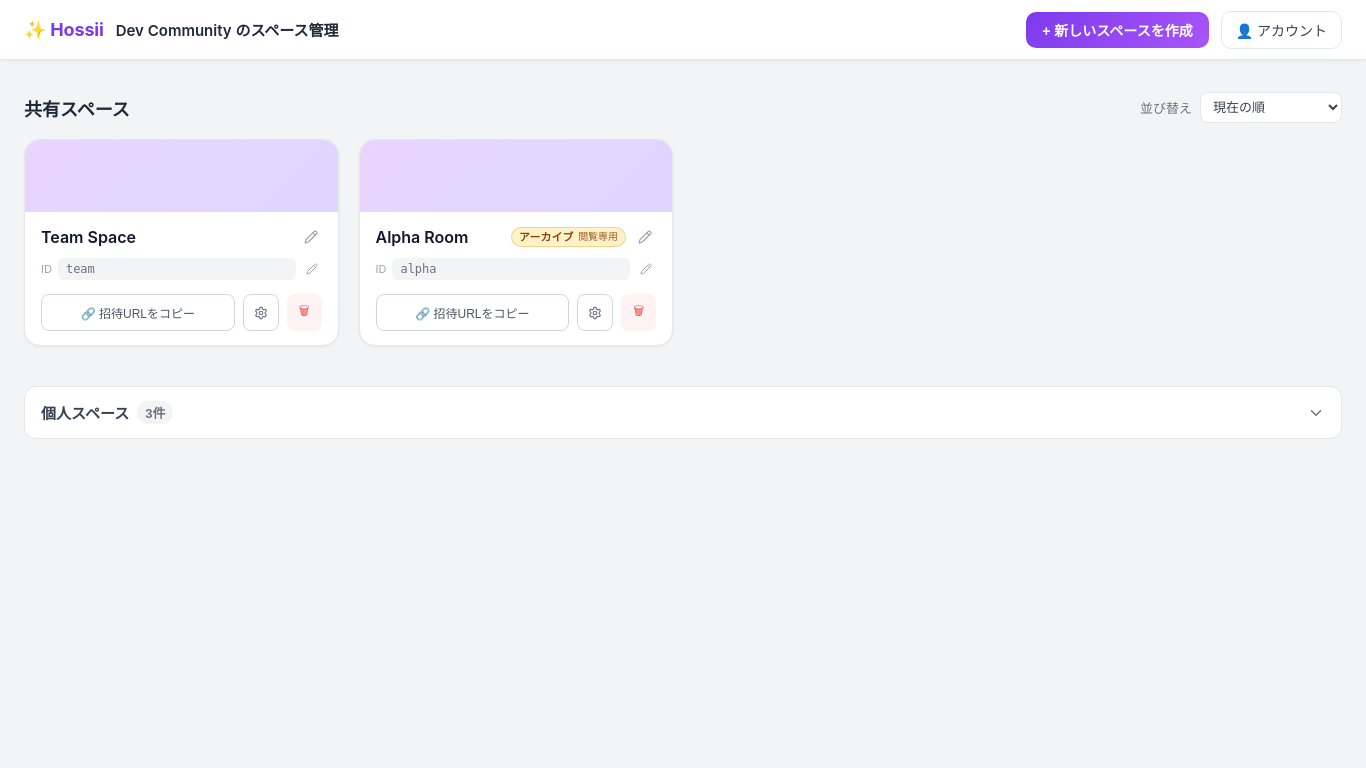
Scenario: SpacesScreen admin search and sort › email で検索できる
Click the button "個人スペース 3件" at (85, 414), box [24,386,1342,439]
(page scrolled)
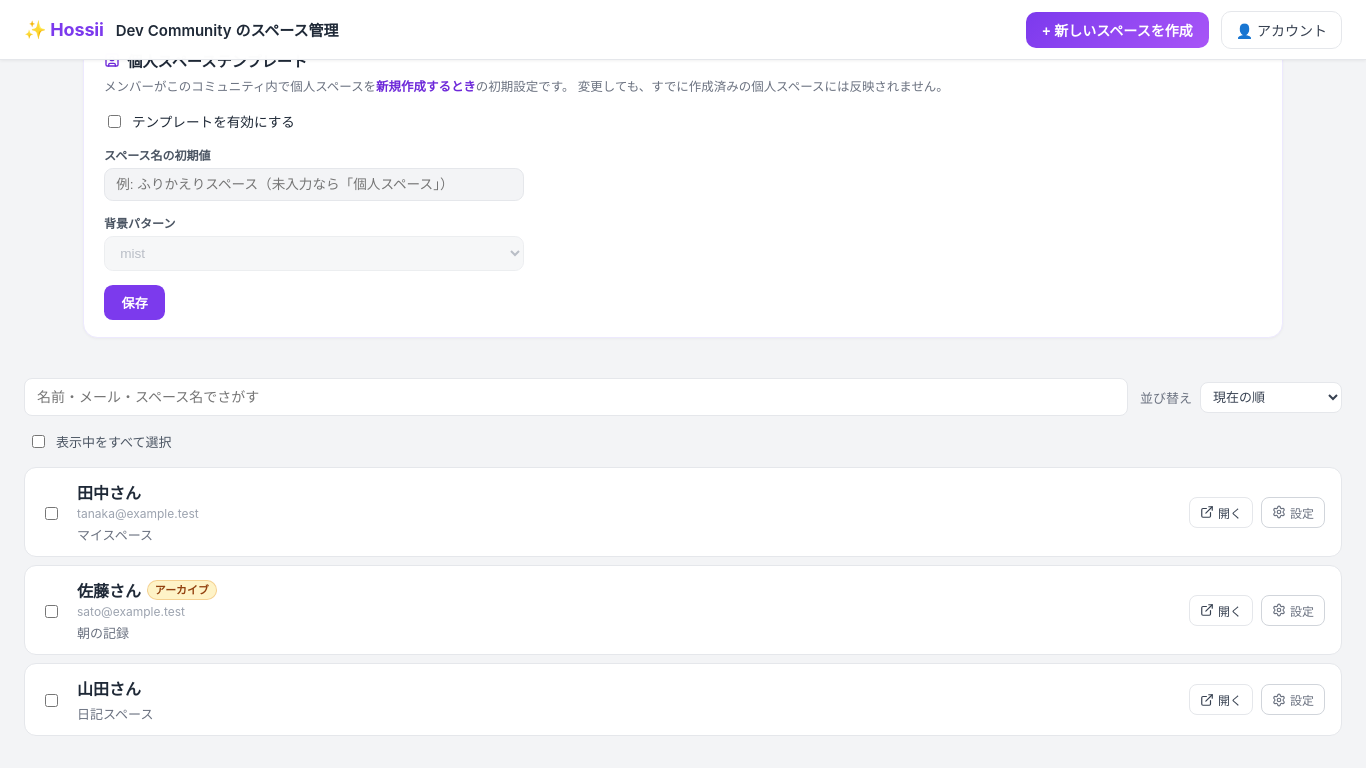
Expected: the search field named "個人スペースを検索" is shown
Type "sato@example" into the search field named "個人スペースを検索" at (576, 397), box [24,378,1128,416]
(page scrolled)
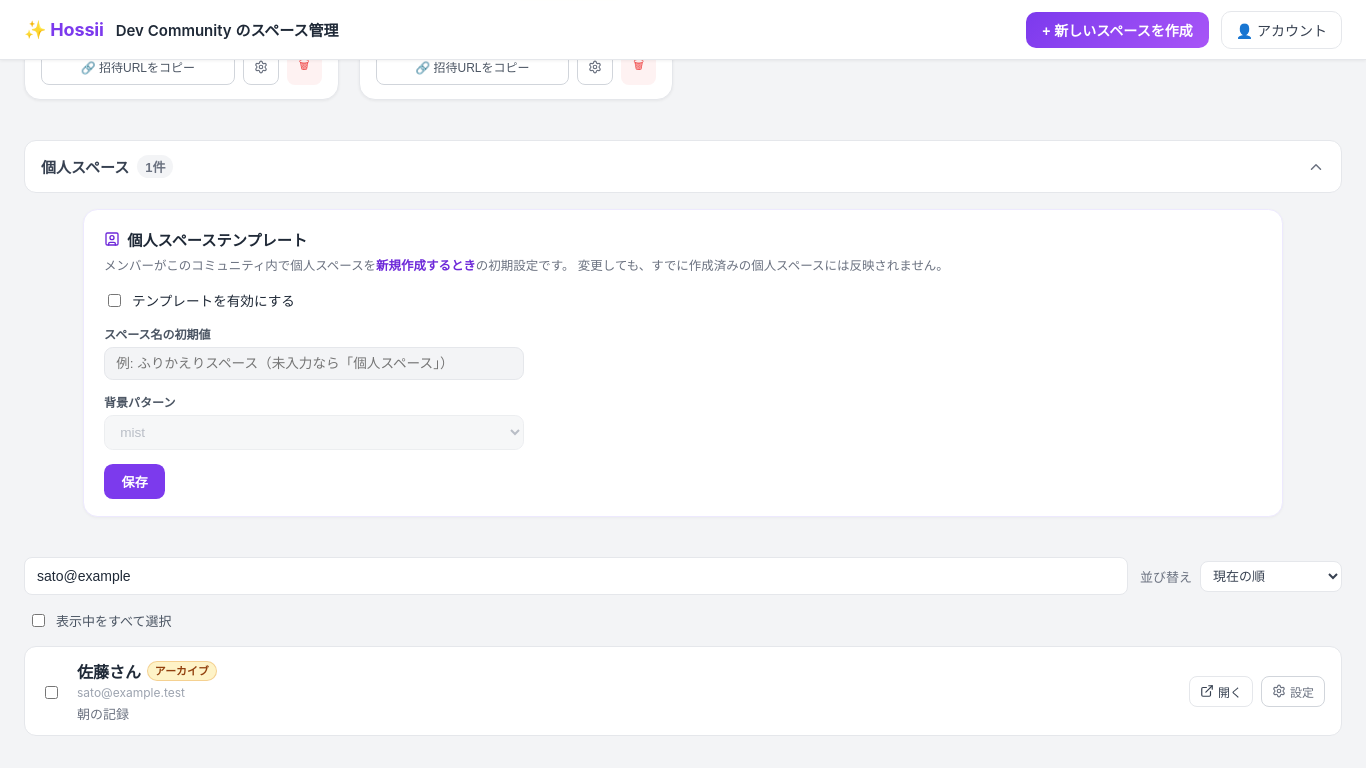
Expected: the text "佐藤さん" is shown, [77,659,141,683]
Expected: the text "田中さん" is gone
